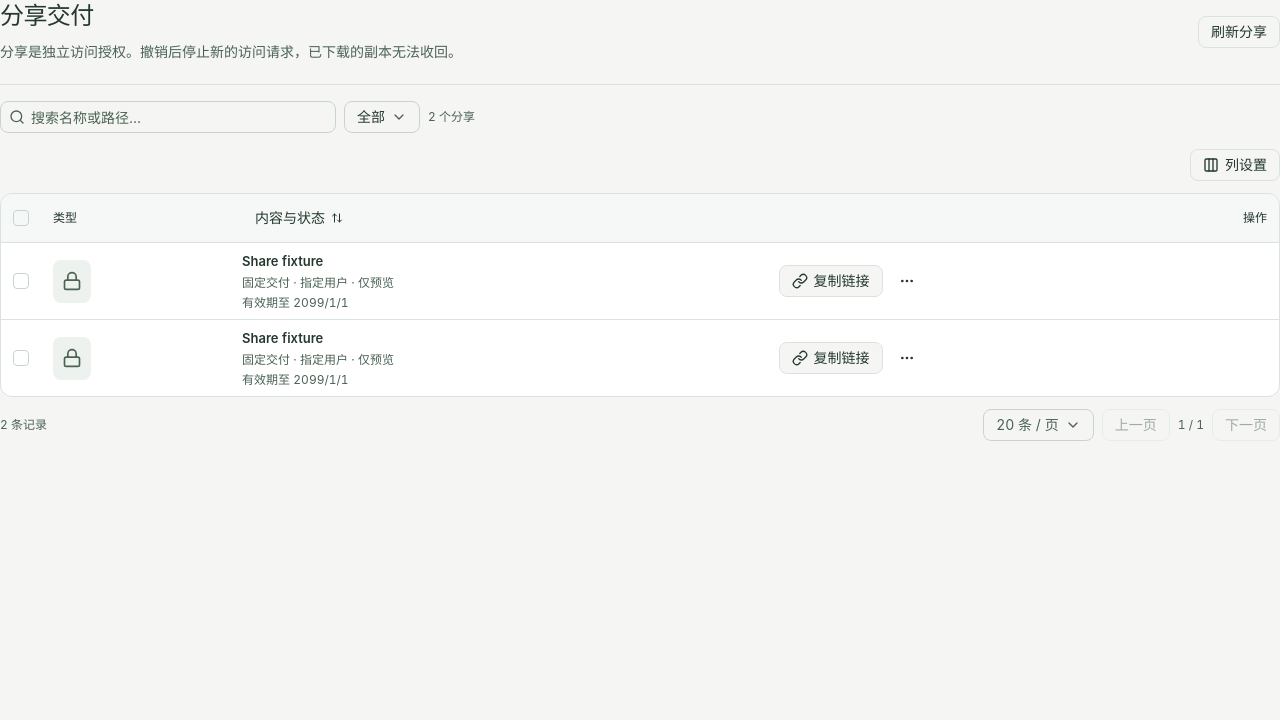
Scenario: stops a confirmed batch immediately after authorization loss
The image size is (1280, 720).
Click the checkbox named "选择分享交付当前页" at (21, 218), box [13,210,29,226]
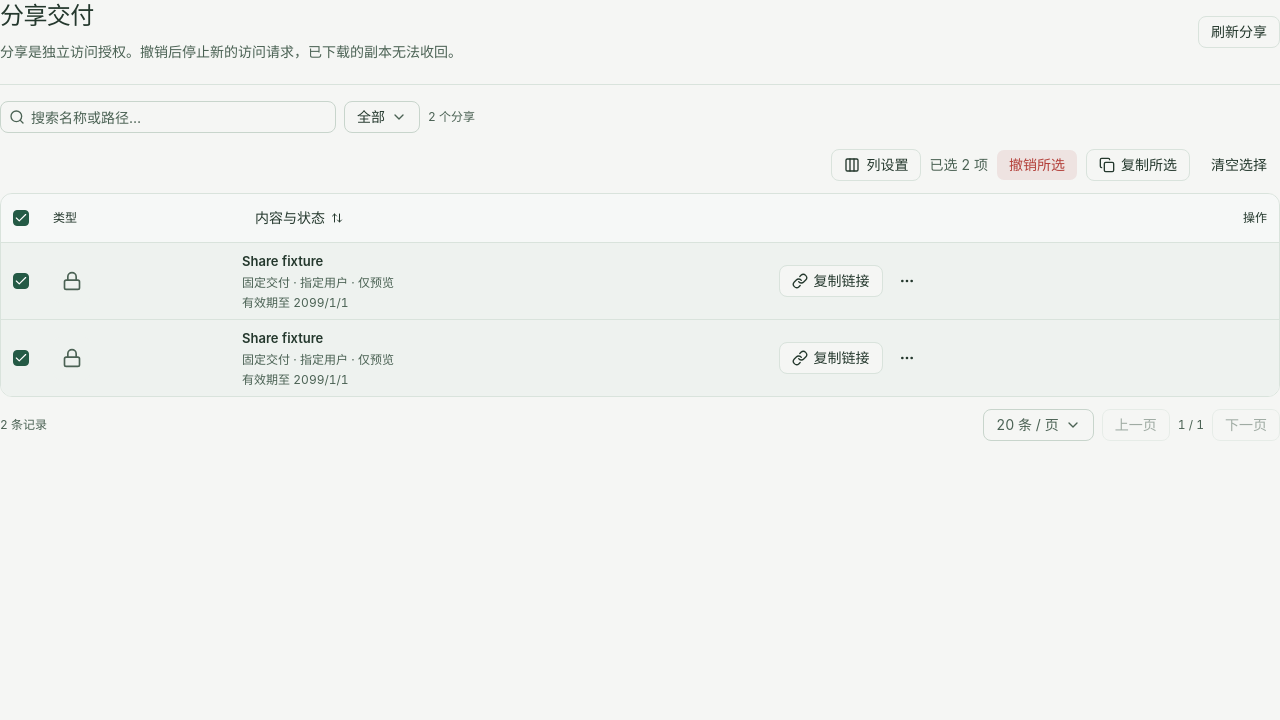
Click the button "撤销所选" at (1037, 165), box [996,149,1078,181]
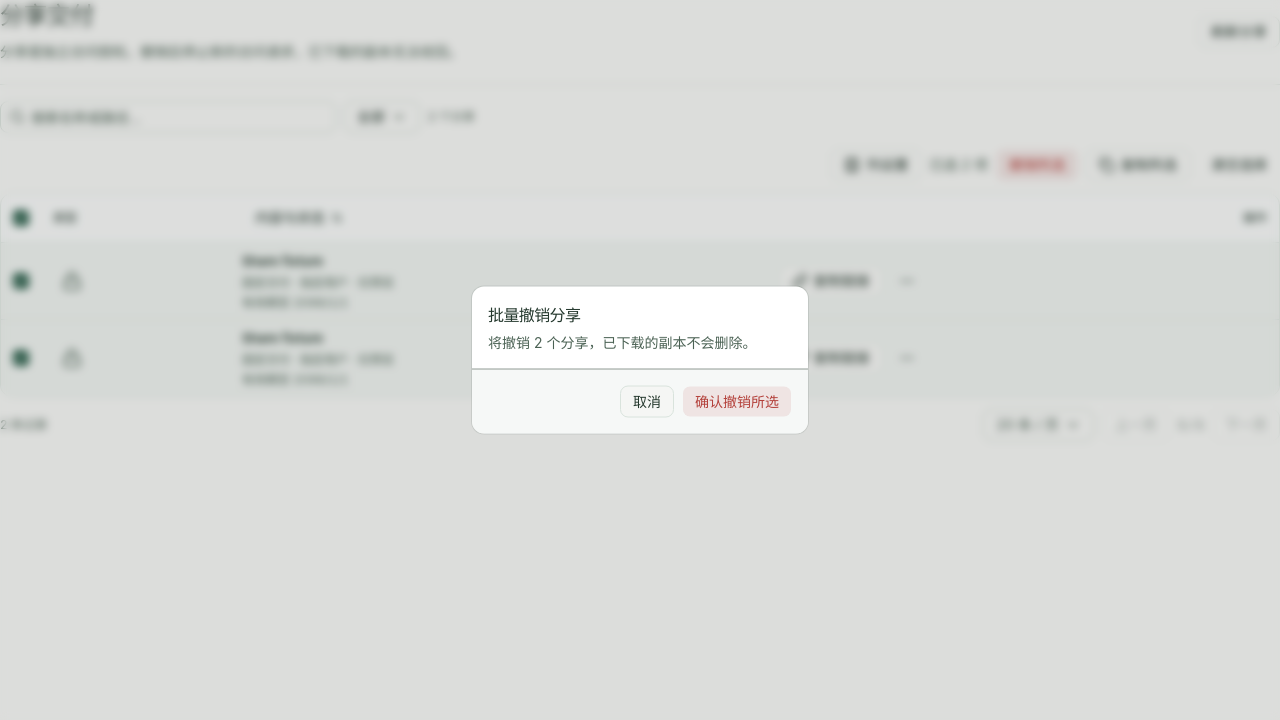
Click the button "确认撤销所选" at (737, 402), box [682,386,792,418]
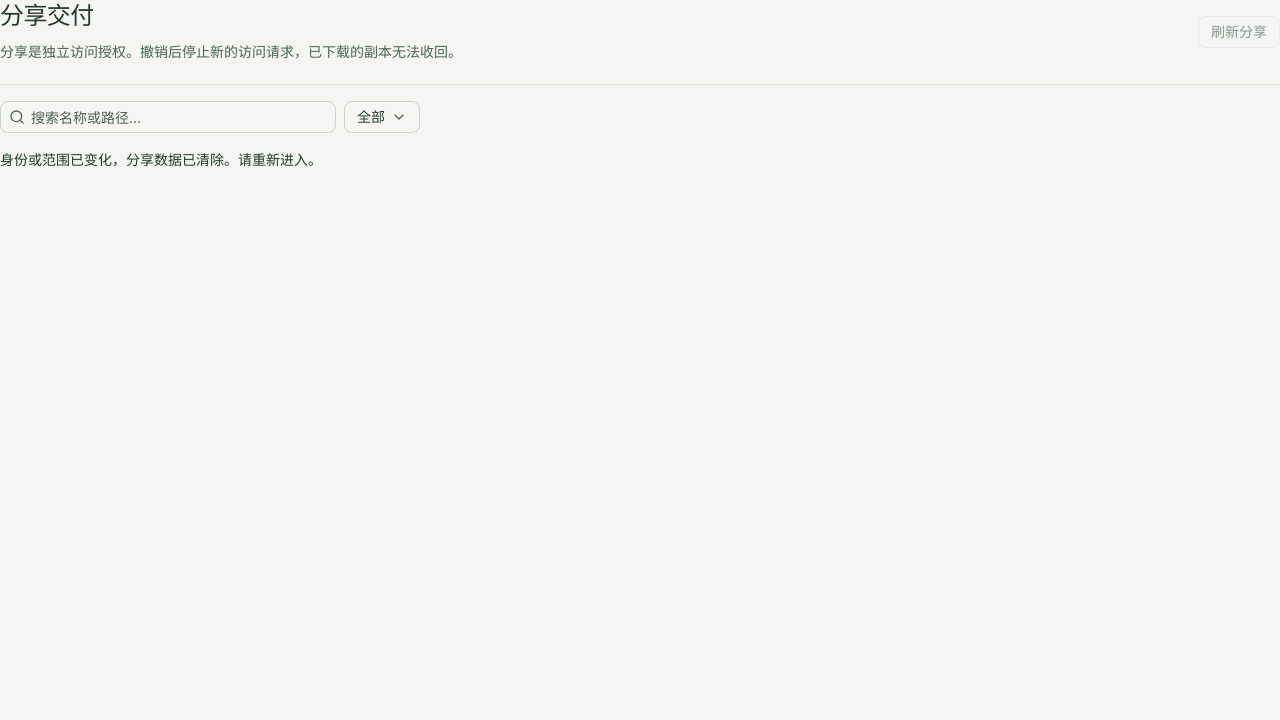
Expected: the text "身份或范围已变化，分享数据已清除。请重新进入。" is shown, [0,151,322,168]
Expected: the dialog is gone
